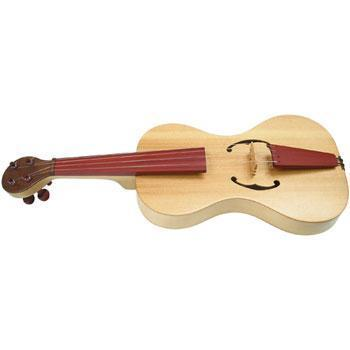Fiddle: (5, 110, 349, 242)
